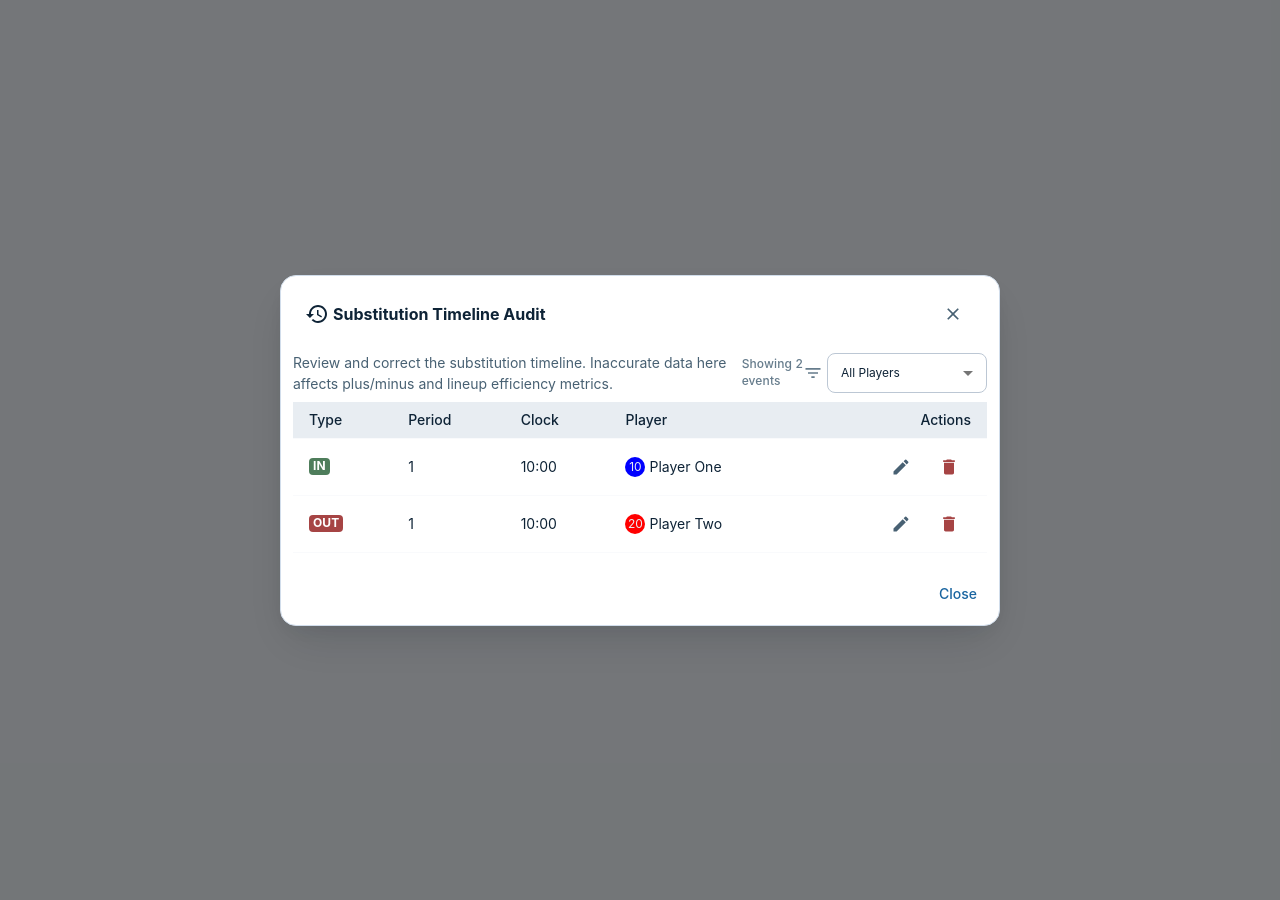
Scenario: SubstitutionAuditDialog › shows error snackbar and logs error if deleting an event fails
Click the button named "Delete sub in for Player One" at (949, 466), box [927,444,971,488]
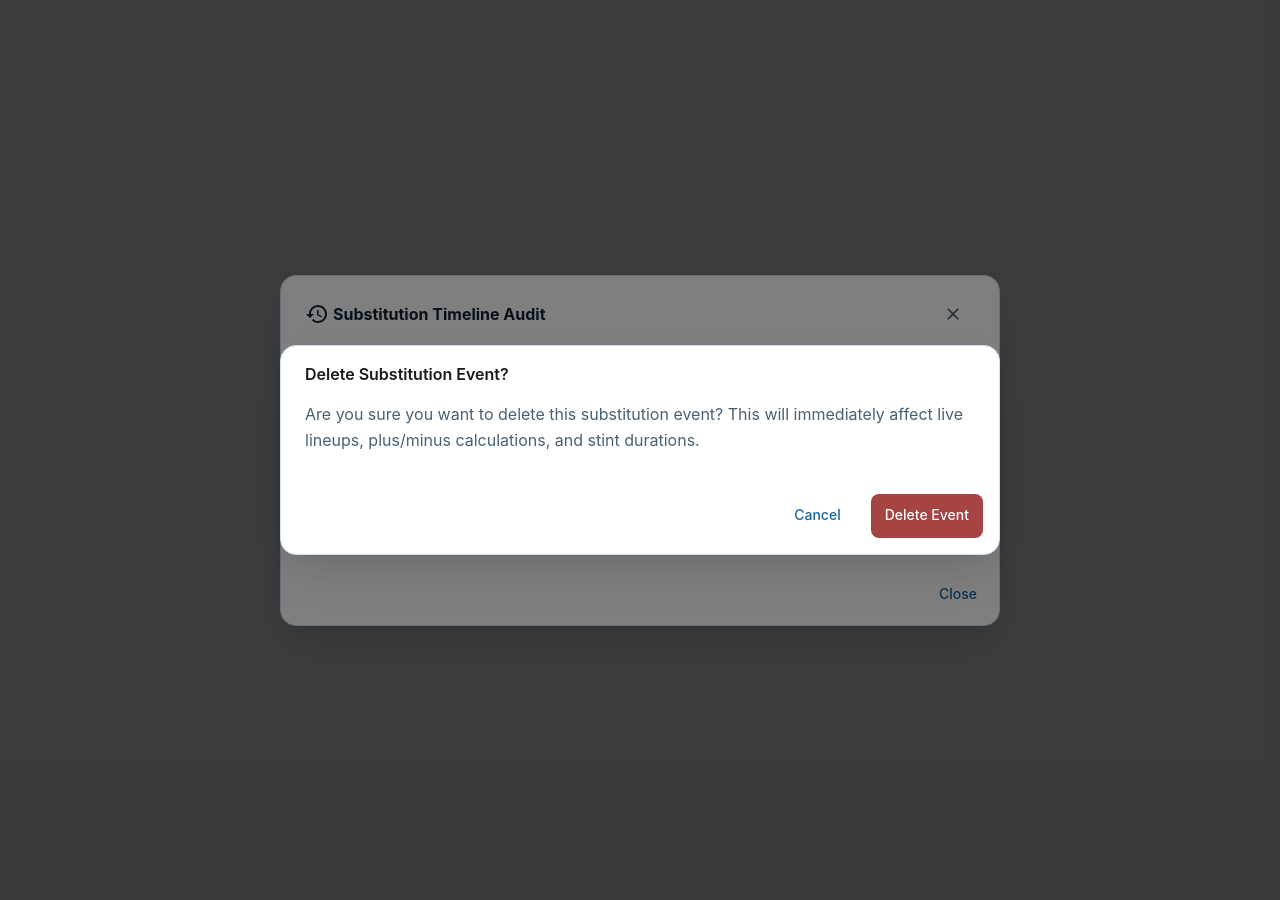
Click the button "Delete Event" at (927, 516), box [871,494,983,538]
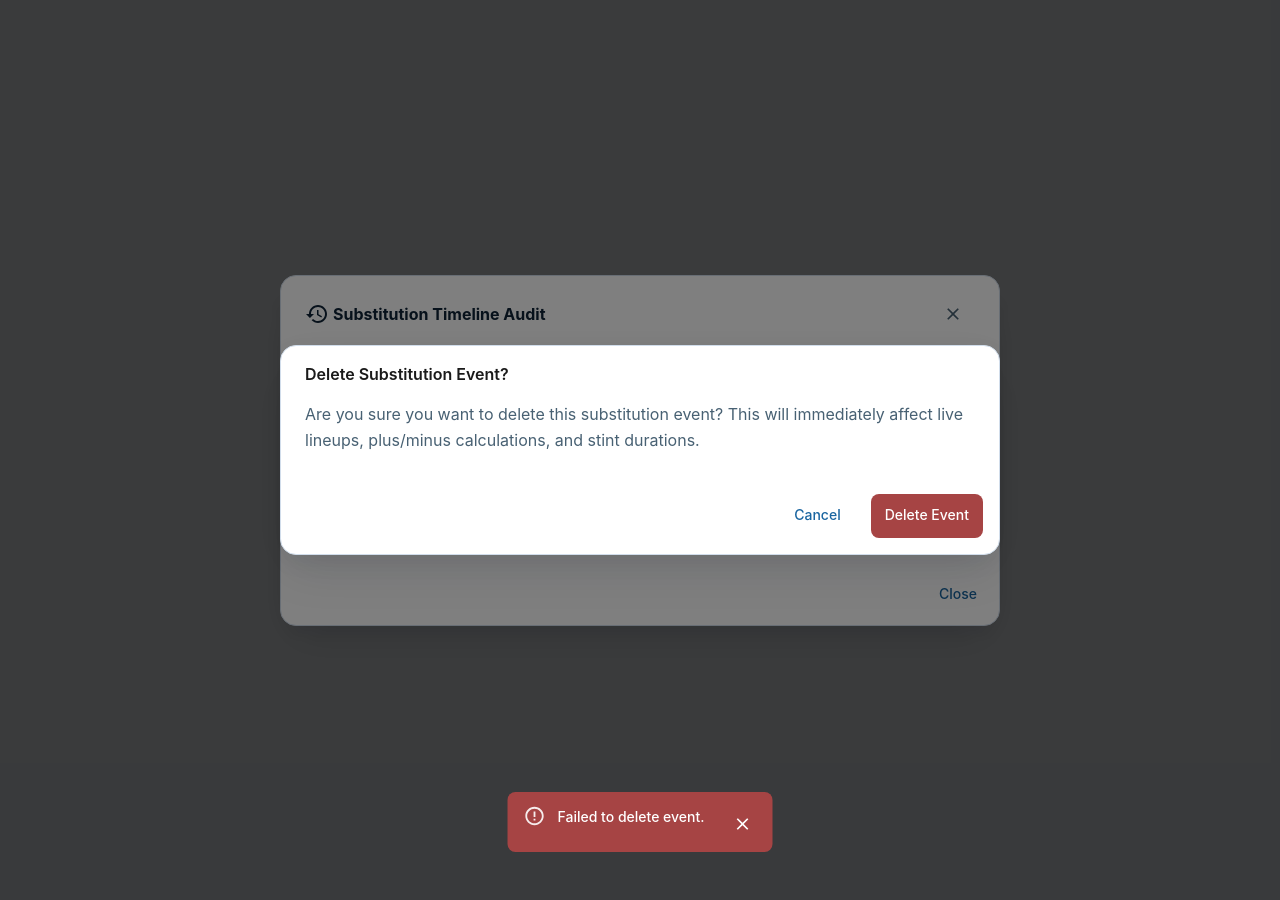
Result: the text "Failed to delete event." is shown at [558,808,704,825]
